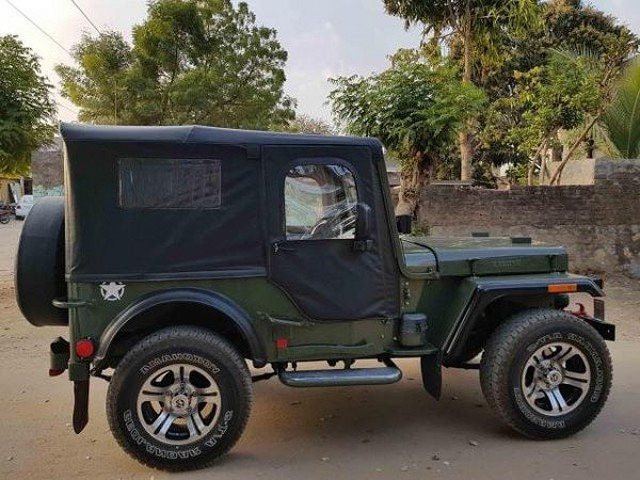Vehicle: (19, 112, 621, 472)
